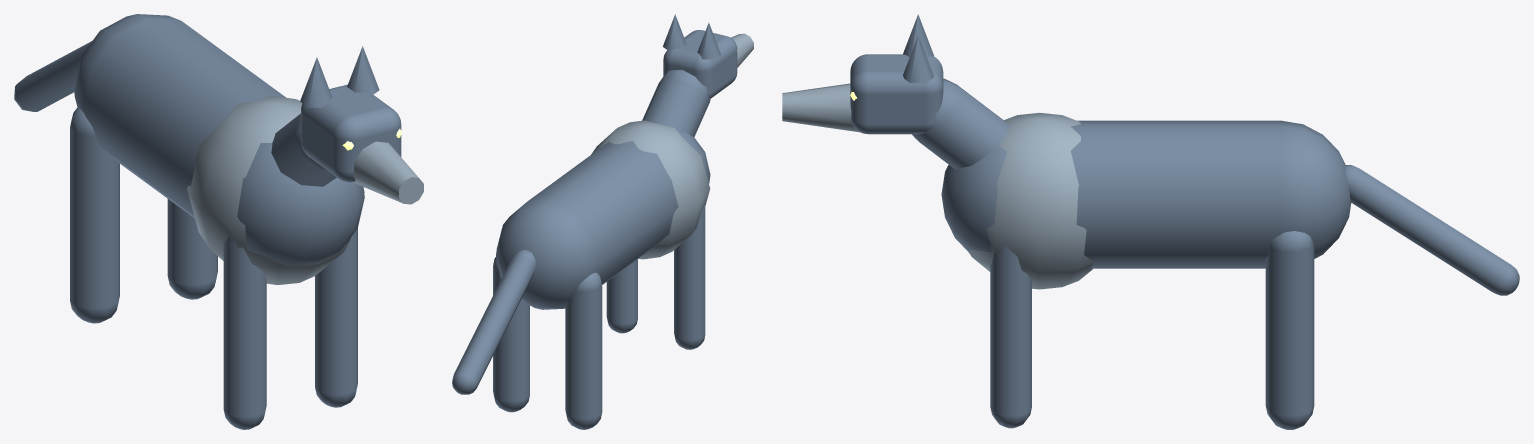
File: wolf.glb
The picture shows the model from 3 angles, left to right: view 1: azimuth 30°, elevation 25°; view 2: azimuth 150°, elevation 25°; view 3: azimuth 270°, elevation 25°; orthographic projection. The views are drawn at different scales.
Visible parts, largest first — view 1: mesh; view 2: mesh; view 3: mesh.
Part boxes in pixels (x1,y1,x2,y2): mesh: (14, 14, 423, 429); mesh: (452, 14, 753, 429); mesh: (782, 14, 1519, 429).
Size of the model in its own units: 0.46 by 1.17 by 2.06.
